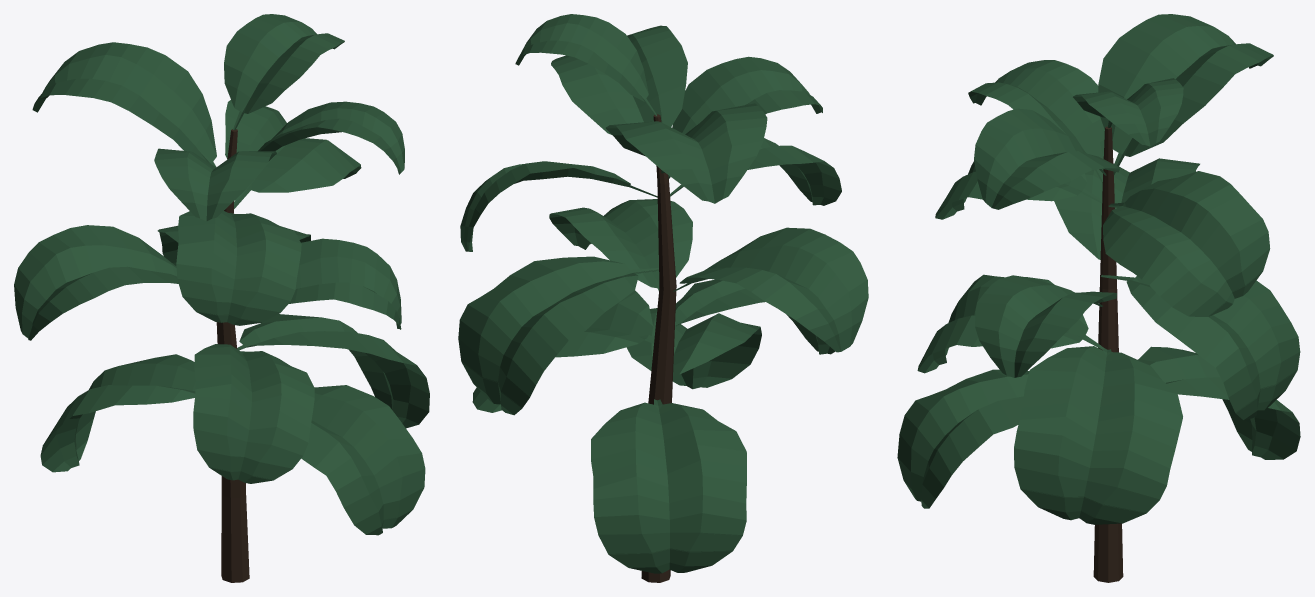
Rendered from Plant_Fig.fbx.
3 renders of one model, left to right at view 1: azimuth 30°, elevation 25°; view 2: azimuth 150°, elevation 25°; view 3: azimuth 270°, elevation 25°, orthographic. The views are drawn at different scales.
Parts seen in each view (by area): view 1: Plant_B; view 2: Plant_B; view 3: Plant_B.
Boxes of the visible parts, x1,y1,x2,y2 form: Plant_B: (14,14,429,582); Plant_B: (458,14,868,582); Plant_B: (897,14,1300,582).
Bounding box in the file's own units: 63.84 × 89.88 × 62.99.
1 material, 1 textured.
